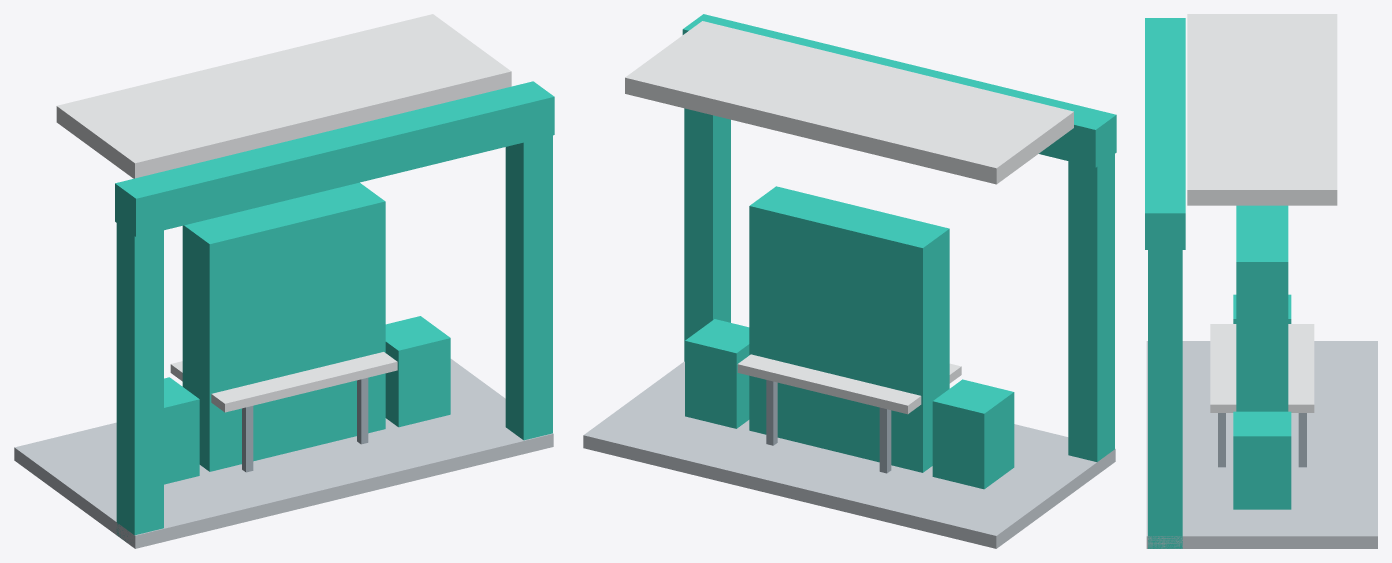
3 views of the same model, side by side, from view 1: azimuth 30°, elevation 25°; view 2: azimuth 150°, elevation 25°; view 3: azimuth 270°, elevation 25° (orthographic). The views are drawn at different scales.
Parts seen in each view (by area): view 1: Exhibition Booth Concept; view 2: Exhibition Booth Concept; view 3: Exhibition Booth Concept.
Part boxes in pixels (x1=…): Exhibition Booth Concept: x1=14, y1=14, x2=554, y2=548; Exhibition Booth Concept: x1=583, y1=14, x2=1116, y2=548; Exhibition Booth Concept: x1=1145, y1=14, x2=1377, y2=548.
Size of the model in its own units: 4 by 3.34 by 2.01.
